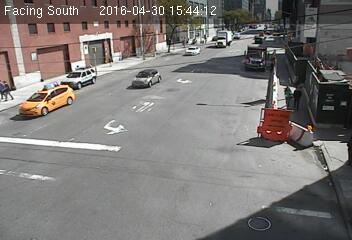neg: (64, 78, 86, 107), (206, 54, 227, 82), (97, 127, 115, 152), (146, 63, 162, 85)
pos: (276, 80, 298, 110), (288, 83, 306, 107)
